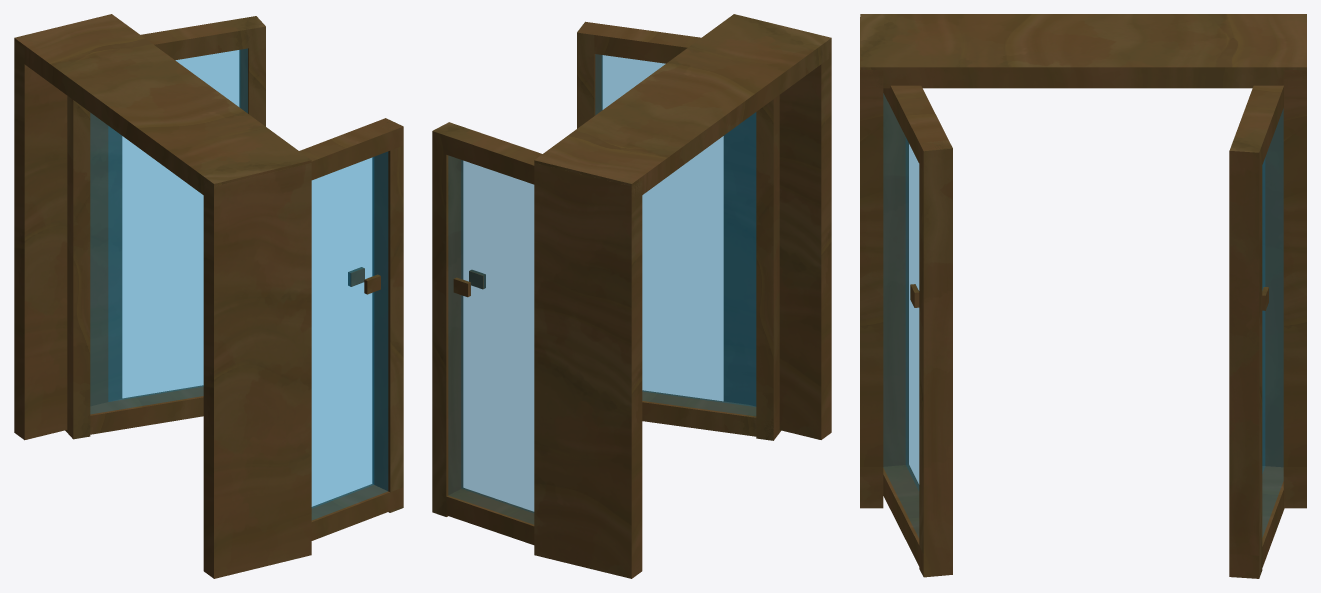
File: portaDuplaA.fbx
The picture shows the model from 3 angles, left to right: view 1: azimuth 30°, elevation 25°; view 2: azimuth 150°, elevation 25°; view 3: azimuth 270°, elevation 25°; orthographic projection. The views are drawn at different scales.
Visible parts, largest first — view 1: Cube.102, Cube.105, Cube.103, Cube.118, Cube.104, Cube.114, Cube.109, Cube.108, Cube.106, Cube.117, Cube.115, Cube.107; view 2: Cube.103, Cube.118, Cube.105, Cube.102, Cube.104, Cube.107, Cube.116, Cube.115, Cube.106, Cube.117, Cube.108, Cube.114; view 3: Cube.104, Cube.114, Cube.118, Cube.107, Cube.102, Cube.103, Cube.116, Cube.105, Cube.109, Cube.106, Cube.117, Cube.115 (+1 smaller).
Part boxes in pixels (x1,y1,x2,y2): Cube.102: [203, 163, 311, 578]; Cube.105: [90, 49, 247, 413]; Cube.103: [14, 40, 122, 440]; Cube.118: [311, 152, 387, 519]; Cube.104: [14, 14, 311, 200]; Cube.114: [372, 118, 403, 512]; Cube.109: [65, 96, 90, 439]; Cube.108: [90, 385, 203, 434]; Cube.106: [141, 16, 265, 60]; Cube.117: [299, 118, 403, 180]; Cube.115: [311, 484, 403, 540]; Cube.107: [239, 25, 265, 126]; Cube.103: [534, 163, 642, 578]; Cube.118: [595, 54, 756, 415]; Cube.105: [448, 156, 534, 524]; Cube.102: [723, 40, 831, 439]; Cube.104: [534, 14, 831, 202]; Cube.107: [432, 131, 463, 516]; Cube.116: [756, 95, 781, 440]; Cube.115: [642, 390, 779, 438]; Cube.106: [433, 122, 542, 184]; Cube.117: [578, 22, 700, 63]; Cube.108: [446, 487, 534, 544]; Cube.114: [577, 21, 602, 128]; Cube.104: [860, 14, 1306, 88]; Cube.114: [919, 140, 952, 577]; Cube.118: [883, 94, 919, 536]; Cube.107: [1229, 142, 1262, 578]; Cube.102: [860, 17, 883, 508]; Cube.103: [1283, 70, 1306, 508]; Cube.116: [883, 93, 908, 466]; Cube.105: [1262, 109, 1283, 536]; Cube.109: [1262, 108, 1283, 467]; Cube.106: [1229, 85, 1283, 173]; Cube.117: [883, 85, 951, 171]; Cube.115: [883, 464, 923, 574].
Size of the model in its own units: 364 by 626 by 570.
